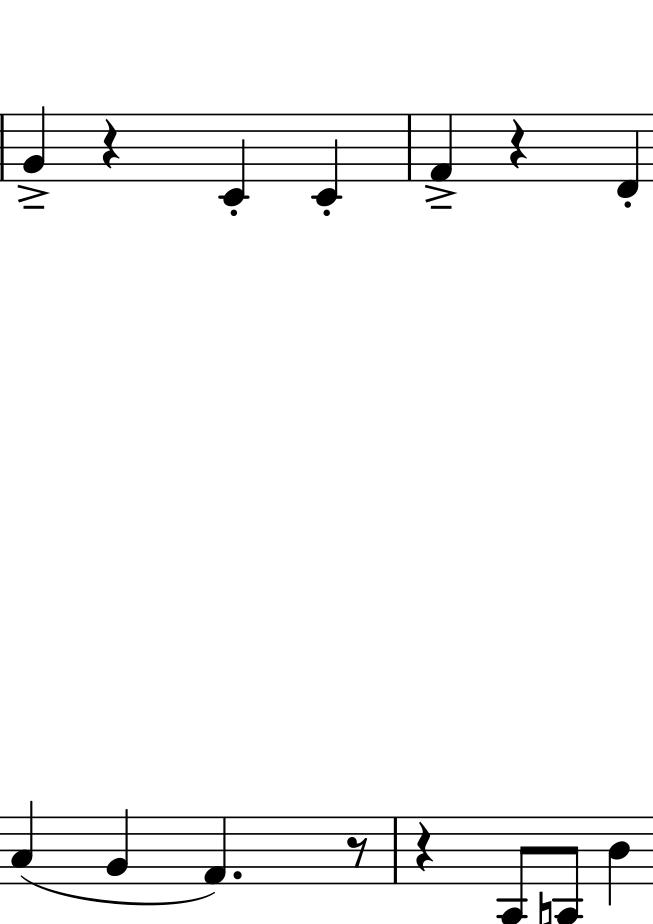4_-2: (314, 112, 339, 207), (221, 111, 246, 206)
4_1: (201, 816, 228, 887), (429, 114, 454, 183)
4_2: (22, 105, 47, 181), (106, 808, 130, 885)
4_3: (10, 802, 34, 884)
4_4: (607, 820, 631, 905)
8_-1: (614, 112, 641, 199)
8_-4: (497, 815, 531, 924), (555, 814, 581, 924)
Accent_above: (14, 183, 51, 203), (422, 184, 459, 204)
Rests4: (99, 118, 121, 171), (413, 821, 434, 875), (507, 118, 528, 171)
Rests8: (346, 834, 370, 869)
Single_barline: (387, 818, 405, 883), (402, 114, 417, 183), (1, 112, 10, 182)
Slur: (19, 877, 216, 905)
dot: (231, 868, 243, 881)
